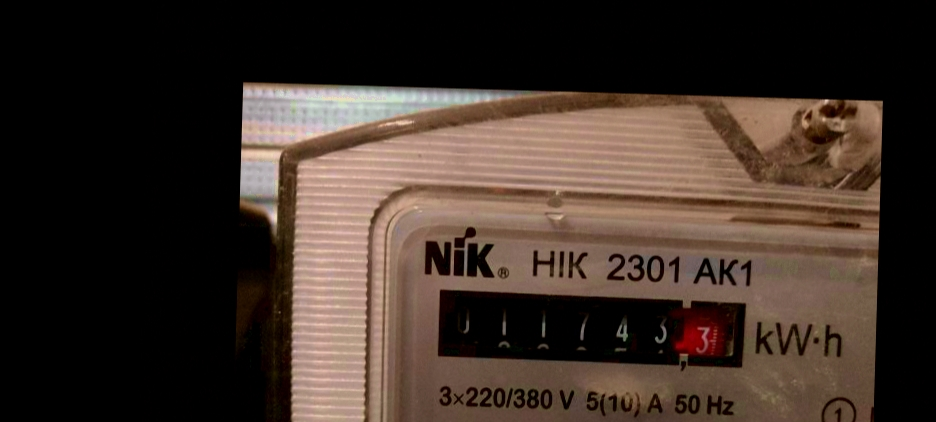0: (453, 300, 473, 336)
1: (536, 303, 552, 337), (499, 302, 510, 335)
3: (650, 309, 670, 345), (693, 323, 712, 356)
4: (613, 308, 631, 343)
7: (574, 306, 593, 341)
screen: (423, 276, 760, 380)
